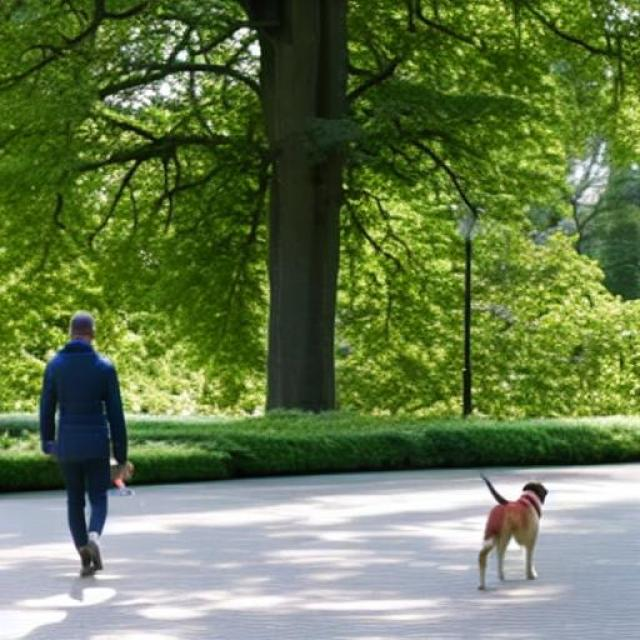Unleashed_Dog: (52, 410, 548, 590)
